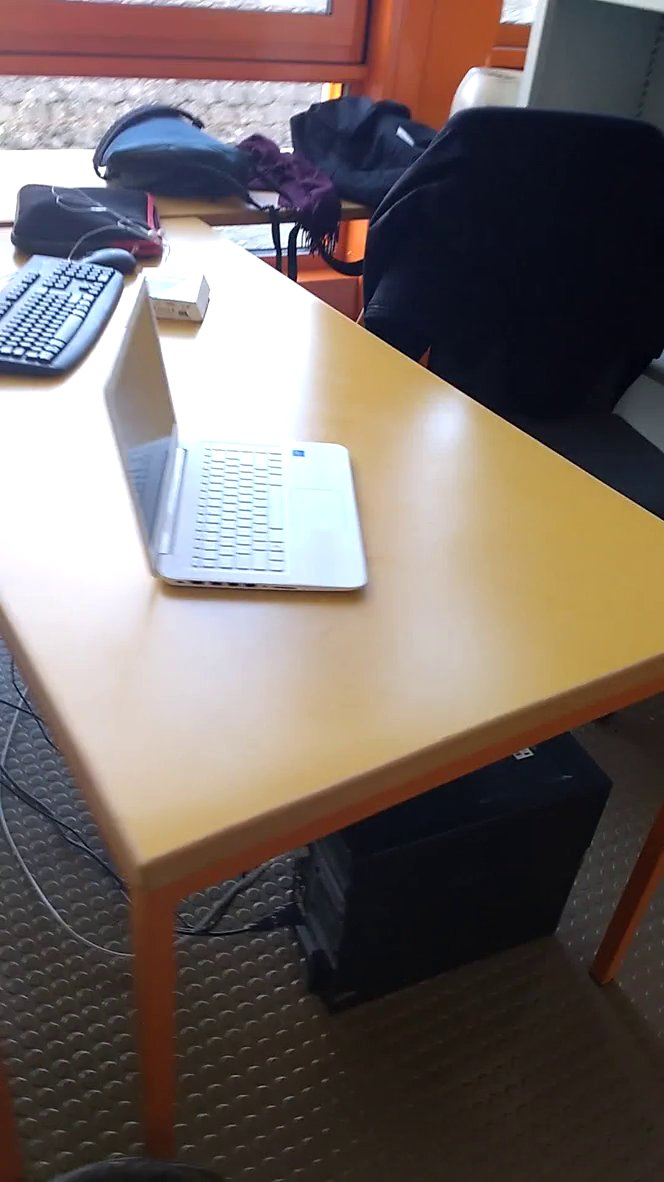bag: (277, 90, 458, 228), (90, 97, 276, 211)
chair: (358, 89, 664, 441)
laptop: (84, 259, 381, 618)
